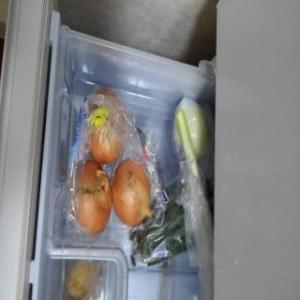onion: (85, 85, 129, 163), (72, 159, 112, 237), (112, 158, 152, 224)
